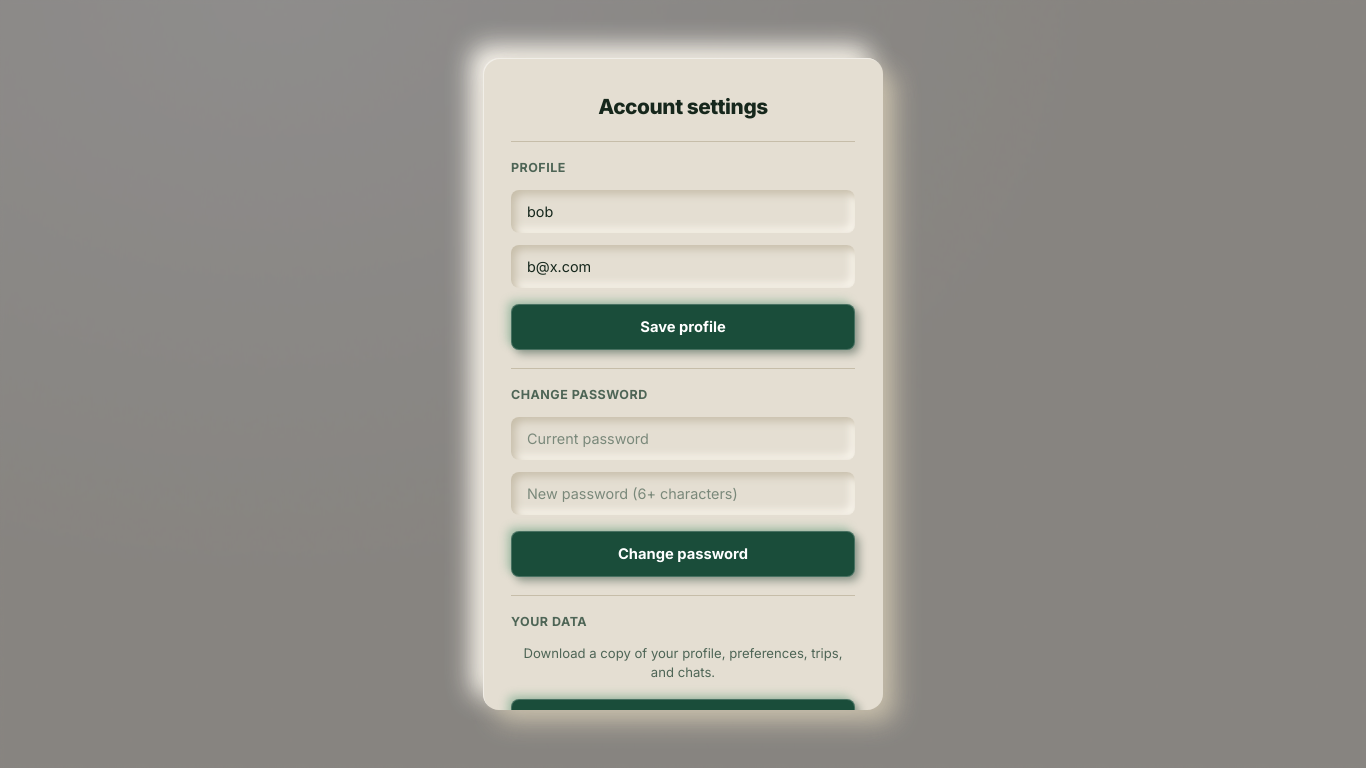
saves only the profile fields that changed
The image size is (1366, 768).
Replace the text in the 1st field with placeholder "Username" with "bobby" at coordinates (683, 211), box [511,190,855,233]
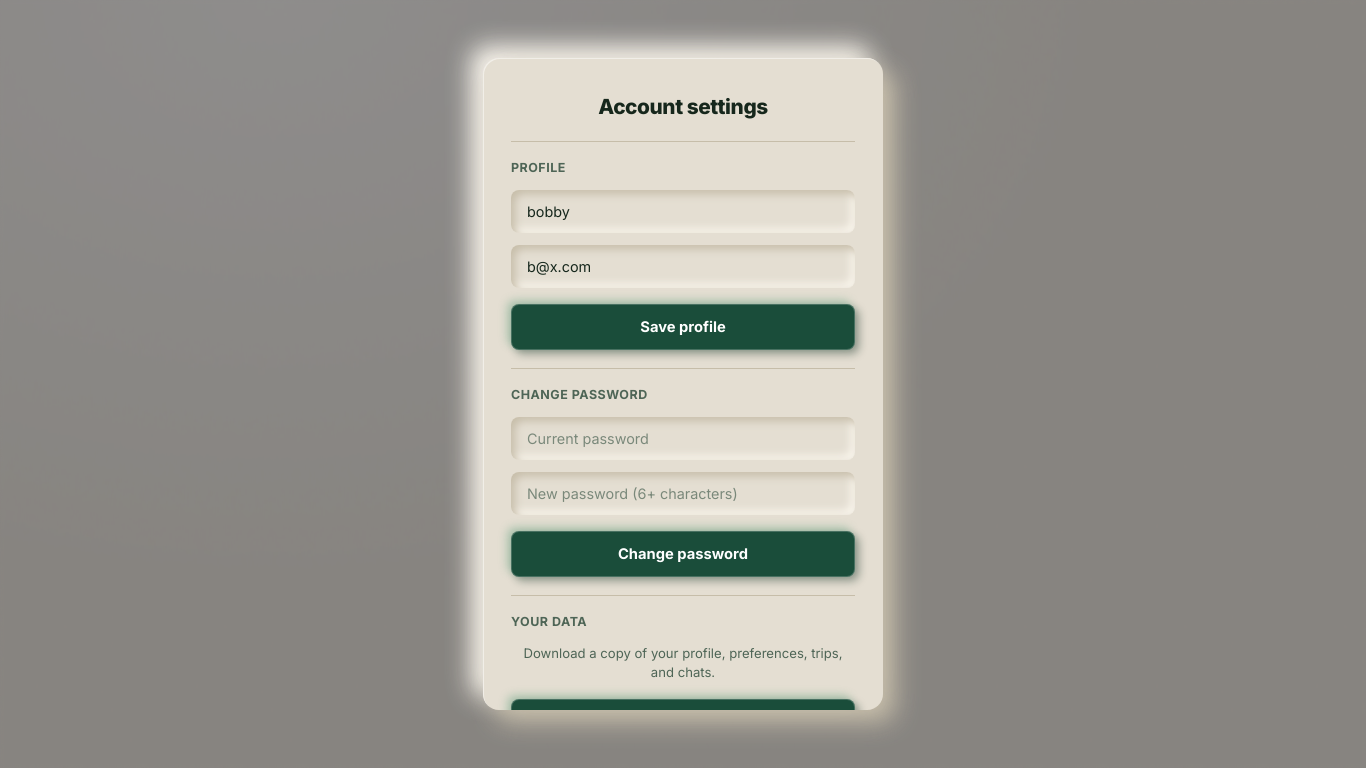
Click the button "Save profile" at coordinates (683, 327), box [511,304,855,350]
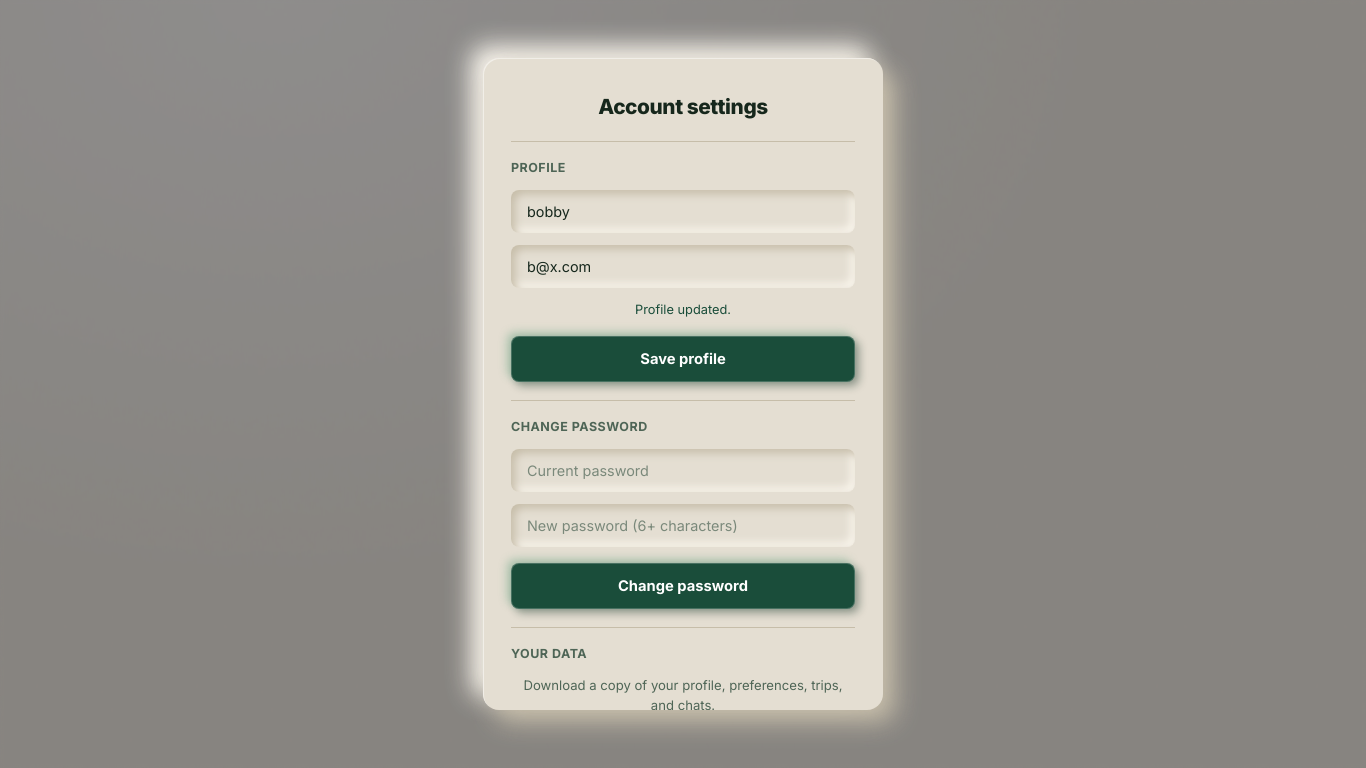
Expected: the text "Profile updated." is shown, [635,302,731,317]
